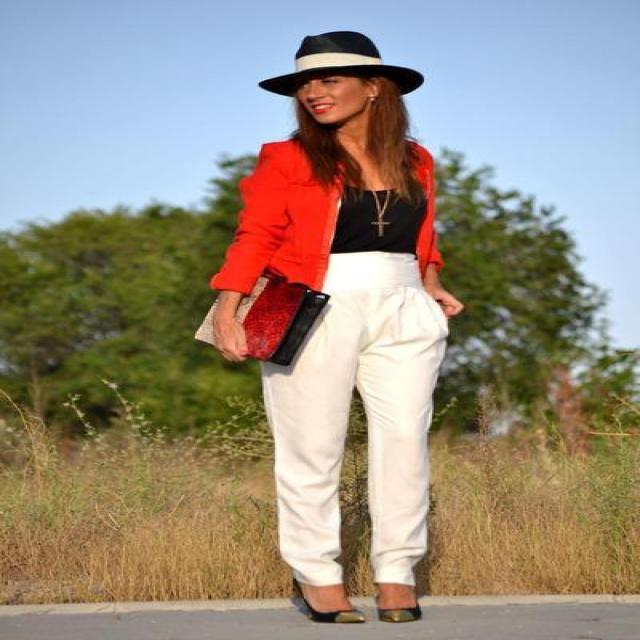bag: (242, 269, 330, 365)
hat: (260, 31, 422, 96)
jacket: (211, 140, 440, 296)
pants: (259, 252, 448, 584)
shoe: (293, 579, 421, 622)
